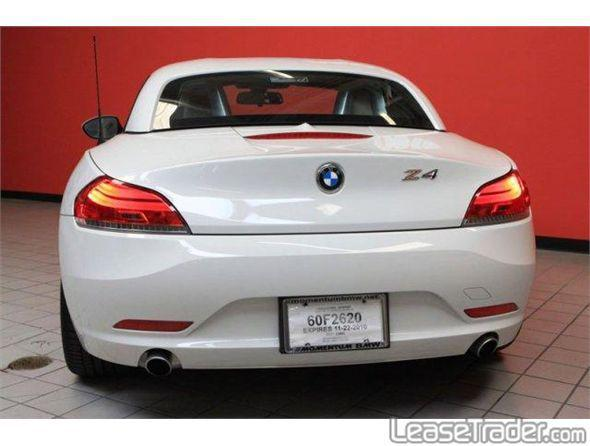Car: (39, 40, 545, 401)
